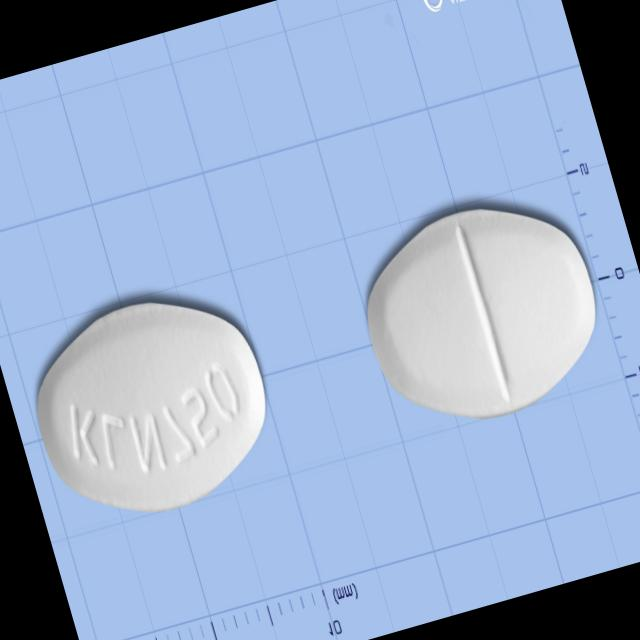Levo Plus: (12, 273, 292, 538)
